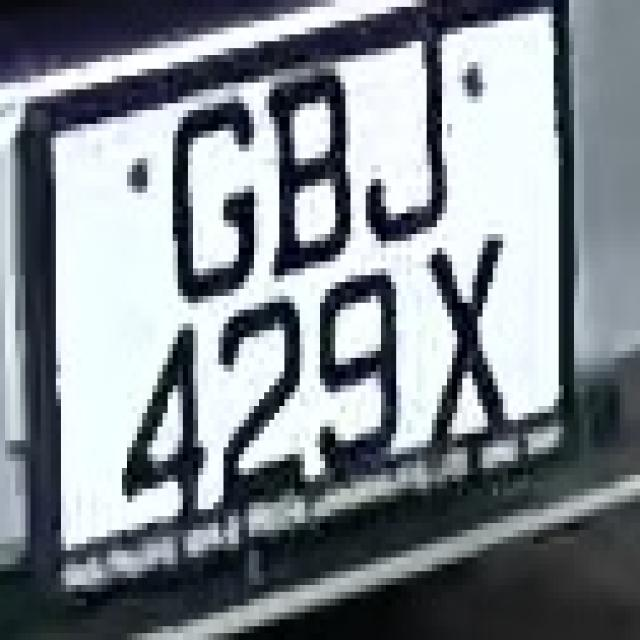2: (208, 289, 310, 516)
4: (102, 310, 213, 523)
9: (300, 255, 411, 502)
B: (249, 55, 361, 310)
G: (157, 82, 254, 302)
J: (351, 14, 452, 248)
X: (402, 234, 528, 434)
